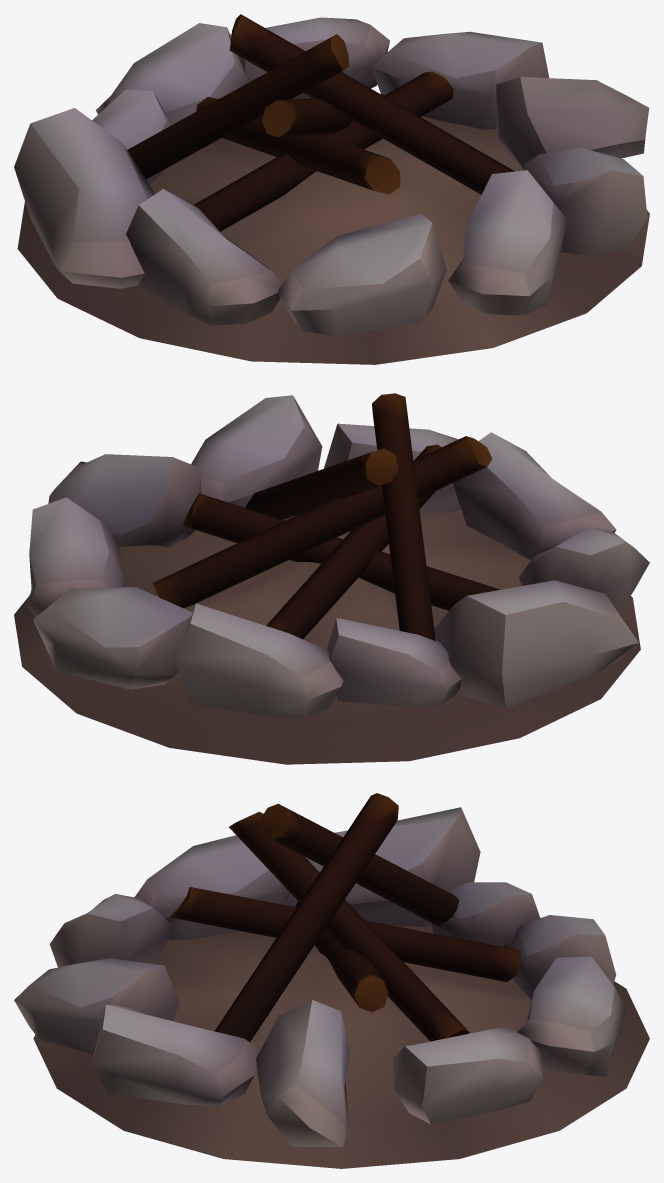
Rendered from Fireplace_Baseless.fbx.
3 renders of one model, top to bottom at view 1: azimuth 30°, elevation 25°; view 2: azimuth 150°, elevation 25°; view 3: azimuth 270°, elevation 25°, orthographic. The views are drawn at different scales.
Visible parts, largest first — view 1: Fireplace_Baseless; view 2: Fireplace_Baseless; view 3: Fireplace_Baseless.
Boxes of the visible parts, x1,y1,x2,y2 form: Fireplace_Baseless: [14, 14, 649, 364]; Fireplace_Baseless: [14, 393, 649, 764]; Fireplace_Baseless: [14, 793, 649, 1168].
Size of the model in its own units: 133 by 48.31 by 128.
